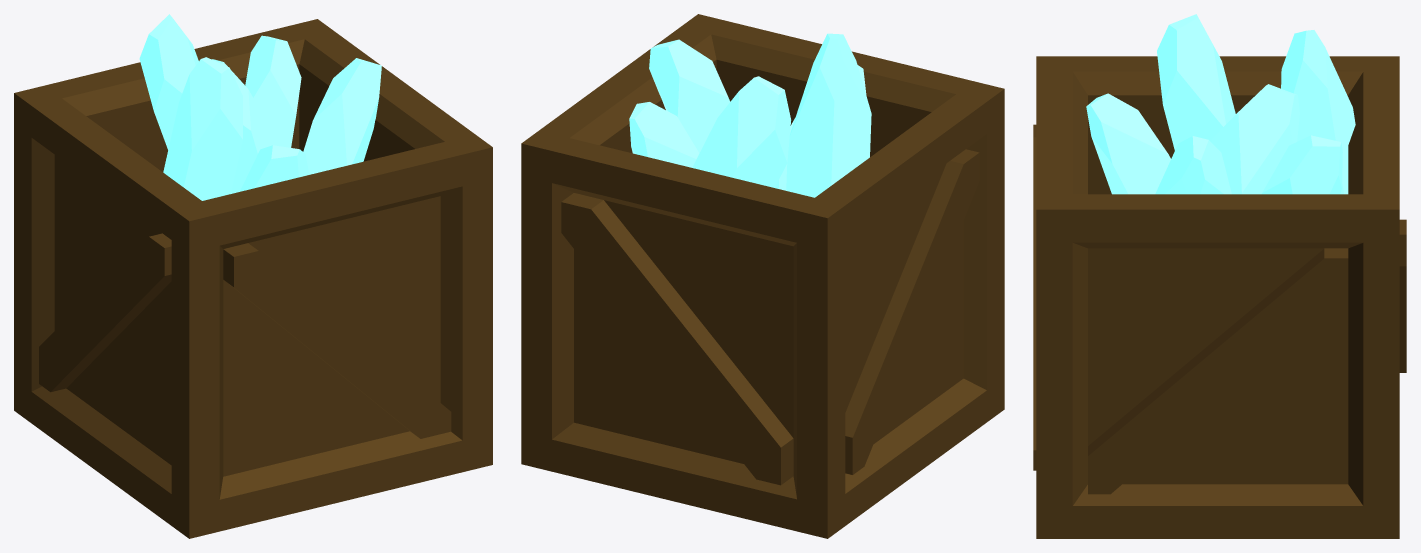
File: Crystal_Box.fbx
3 views of the same model, side by side, from view 1: azimuth 30°, elevation 25°; view 2: azimuth 150°, elevation 25°; view 3: azimuth 270°, elevation 25° (orthographic). The views are drawn at different scales.
Visible parts, largest first — view 1: Crystal_Box; view 2: Crystal_Box; view 3: Crystal_Box.
Part boxes in pixels (x1=…): Crystal_Box: x1=14, y1=14, x2=492, y2=538; Crystal_Box: x1=521, y1=14, x2=1004, y2=538; Crystal_Box: x1=1033, y1=14, x2=1406, y2=538.
Bounding box in the file's own units: 1564 × 1952 × 1587.
